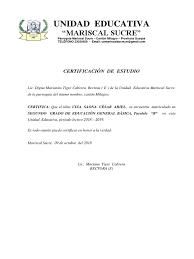certificado: (0, 0, 193, 258)
firma: (73, 145, 133, 172)
institucion: (13, 11, 156, 46)
nombre: (71, 101, 128, 111)
titulo: (25, 107, 160, 117)
